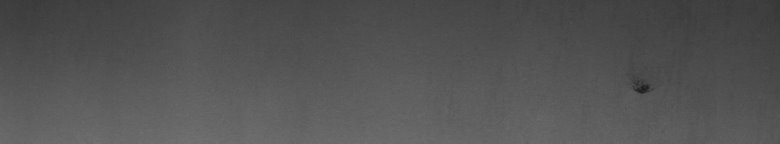fi: (629, 76, 655, 100)
